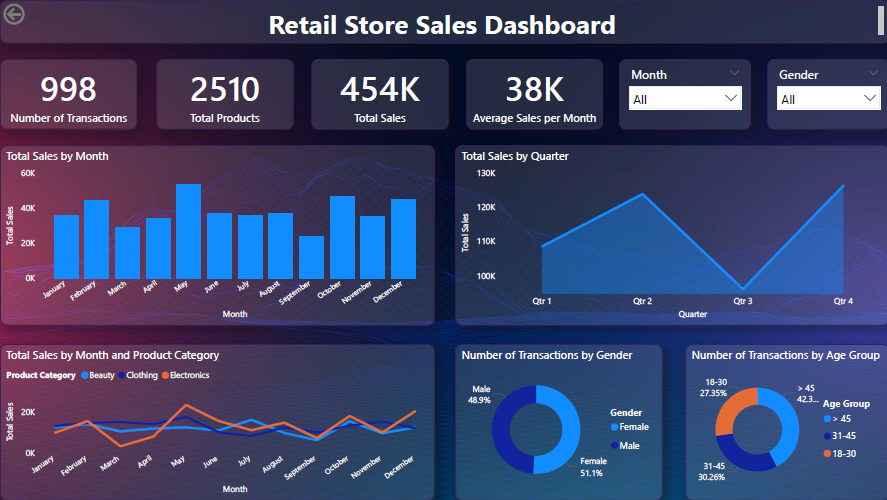

What the dashboard file says about the page in this screenshot:
{"tool":"powerbi","page":{"name":"Page 1","canvas":[1280,720],"ordinal":0},"visuals":[{"type":"areaChart","fields":{"Category":["retail_sales_dataset.Date.Variation.Date Hierarchy.Quarter"],"Y":["Sum(retail_sales_dataset.TotalAmount)"]},"box":[655.2,208.8,625,259.2],"z":0},{"type":"card","fields":{"Values":["CountNonNull(retail_sales_dataset.TransactionID)"]},"box":[0,85,197.3,100.8],"z":1000},{"type":"card","fields":{"Values":["Sum(retail_sales_dataset.TotalAmount)"]},"box":[447.8,85,197.3,100.8],"z":2000},{"type":"lineChart","fields":{"Category":["retail_sales_dataset.Date.Variation.Date Hierarchy.Month"],"Y":["Sum(retail_sales_dataset.TotalAmount)"],"Series":["retail_sales_dataset.ProductCategory"]},"box":[0,495.4,625,224.6],"z":3000},{"type":"slicer","fields":{"Values":["retail_sales_dataset.Date.Variation.Date Hierarchy.Month"]},"box":[891.4,85,188.6,100.8],"z":4000},{"type":"actionButton","box":[0,0,100,40],"z":5000},{"type":"slicer","fields":{"Values":["retail_sales_dataset.Gender"]},"box":[1104.5,85,175.7,100.8],"z":6000},{"type":"donutChart","fields":{"Category":["retail_sales_dataset.Gender"],"Y":["CountNonNull(retail_sales_dataset.TransactionID)"]},"box":[655.2,495.4,298.1,224.6],"z":7000},{"type":"donutChart","fields":{"Category":["retail_sales_dataset.Age (groups)"],"Y":["CountNonNull(retail_sales_dataset.TransactionID)"]},"box":[986.4,495.4,293.8,224.6],"z":8000},{"type":"card","fields":{"Values":["retail_sales_dataset.TotalAmount average per Month"]},"box":[671,85,195.8,100.8],"z":9000},{"type":"card","fields":{"Values":["Sum(retail_sales_dataset.Quantity)"]},"box":[224.6,85,197.3,100.8],"z":10000},{"type":"textbox","title":"Retail Sales Dashboard","box":[0,0,1280.2,61.9],"z":11000},{"type":"columnChart","fields":{"Category":["retail_sales_dataset.Date.Variation.Date Hierarchy.Month"],"Y":["Sum(retail_sales_dataset.TotalAmount)"]},"box":[0,208.8,625,259.2],"z":12000}]}

Visuals, with their boxes in screenshot pixels (x1, y1, x2, y2), scaled from the page's 1280x720 canvas onto the 887x500 screenshot:
areaChart - retail_sales_dataset.Date.Variation.Date Hierarchy.Quarter x Sum(retail_sales_dataset.TotalAmount): (454, 145, 886, 325)
card - CountNonNull(retail_sales_dataset.TransactionID): (0, 59, 137, 129)
card - Sum(retail_sales_dataset.TotalAmount): (310, 59, 447, 129)
lineChart - retail_sales_dataset.Date.Variation.Date Hierarchy.Month x Sum(retail_sales_dataset.TotalAmount): (0, 344, 433, 499)
slicer - retail_sales_dataset.Date.Variation.Date Hierarchy.Month: (618, 59, 748, 129)
actionButton: (0, 0, 69, 28)
slicer - retail_sales_dataset.Gender: (765, 59, 886, 129)
donutChart - retail_sales_dataset.Gender x CountNonNull(retail_sales_dataset.TransactionID): (454, 344, 661, 499)
donutChart - retail_sales_dataset.Age (groups) x CountNonNull(retail_sales_dataset.TransactionID): (684, 344, 886, 499)
card - retail_sales_dataset.TotalAmount average per Month: (465, 59, 601, 129)
card - Sum(retail_sales_dataset.Quantity): (156, 59, 292, 129)
"Retail Sales Dashboard" textbox: (0, 0, 886, 43)
columnChart - retail_sales_dataset.Date.Variation.Date Hierarchy.Month x Sum(retail_sales_dataset.TotalAmount): (0, 145, 433, 325)
